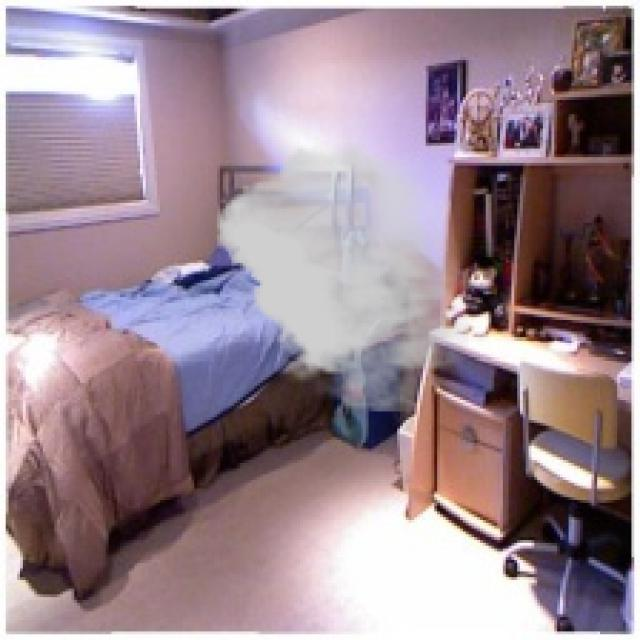Smoke: (217, 142, 469, 412)
